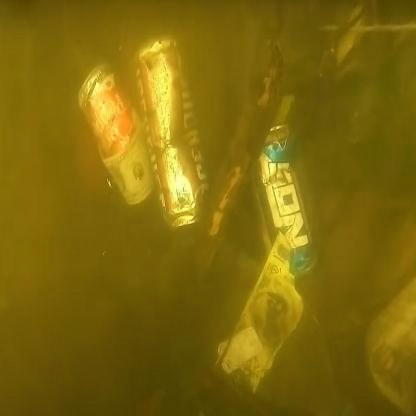can: (254, 122, 332, 313), (138, 30, 208, 242), (80, 68, 146, 215)
